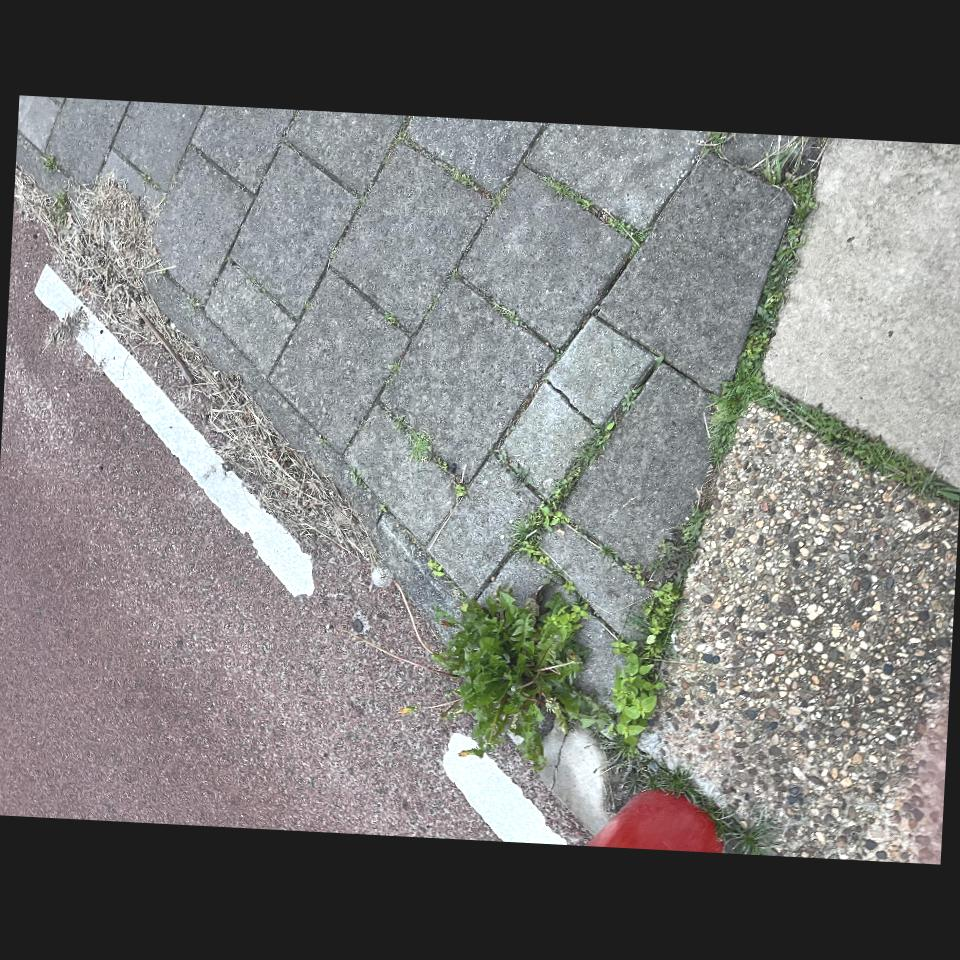weed: (14, 175, 375, 559), (710, 176, 960, 504), (434, 587, 609, 768), (618, 755, 774, 855), (526, 422, 614, 530), (540, 176, 649, 256), (614, 650, 664, 745), (641, 581, 681, 658), (511, 533, 539, 552)
